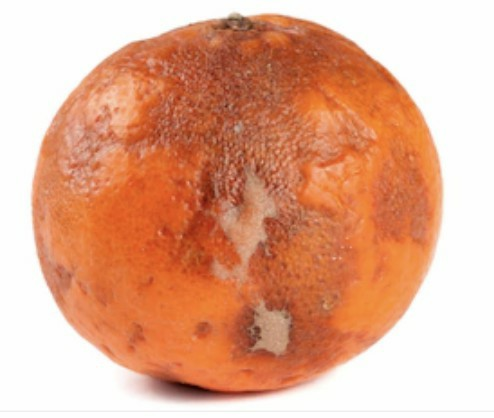rotten_orange: (30, 17, 445, 390)
